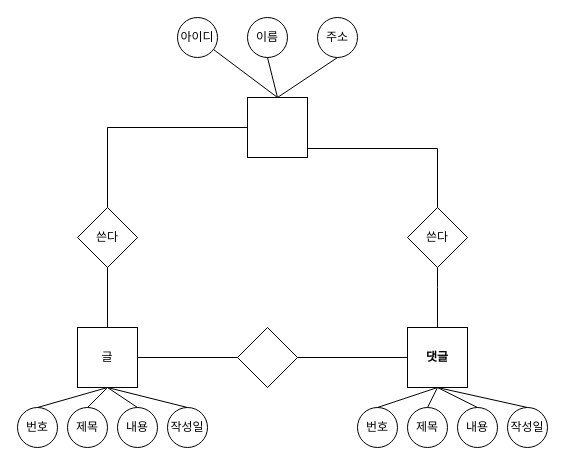
The diagram is 565 pixels wide and 465 high, and some of its shapes have lost their labels. Here are the shapes that lost their labels. From the top down, the box of each, then its label:
(246, 96, 308, 158): 회원
(236, 326, 298, 388): 포함
